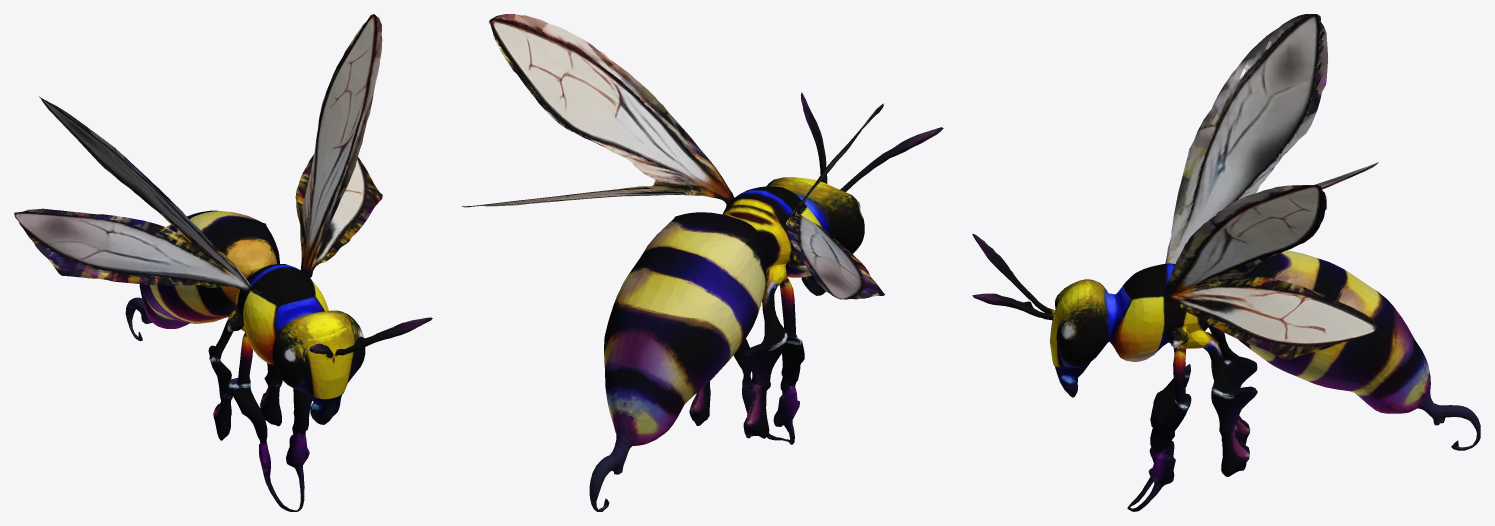
File: wasp.glb
The picture shows the model from 3 angles, left to right: view 1: azimuth 30°, elevation 25°; view 2: azimuth 150°, elevation 25°; view 3: azimuth 270°, elevation 25°; orthographic projection. The views are drawn at different scales.
Parts seen in each view (by area): view 1: geometry_0; view 2: geometry_0; view 3: geometry_0.
Part boxes in pixels (x1,y1,x2,y2): geometry_0: (14,14,432,511); geometry_0: (462,14,943,511); geometry_0: (972,14,1480,511).
Bounding box in the file's own units: 0.5399 × 0.6 × 0.6766.
1 material, 1 textured.
